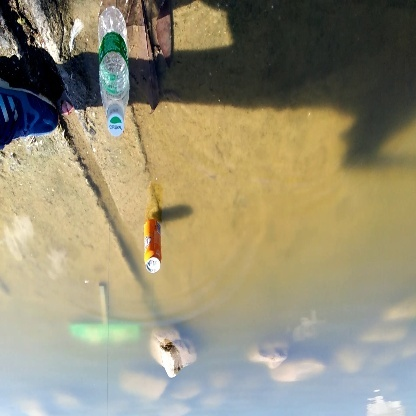bottle: (92, 7, 138, 139), (131, 220, 170, 274)
